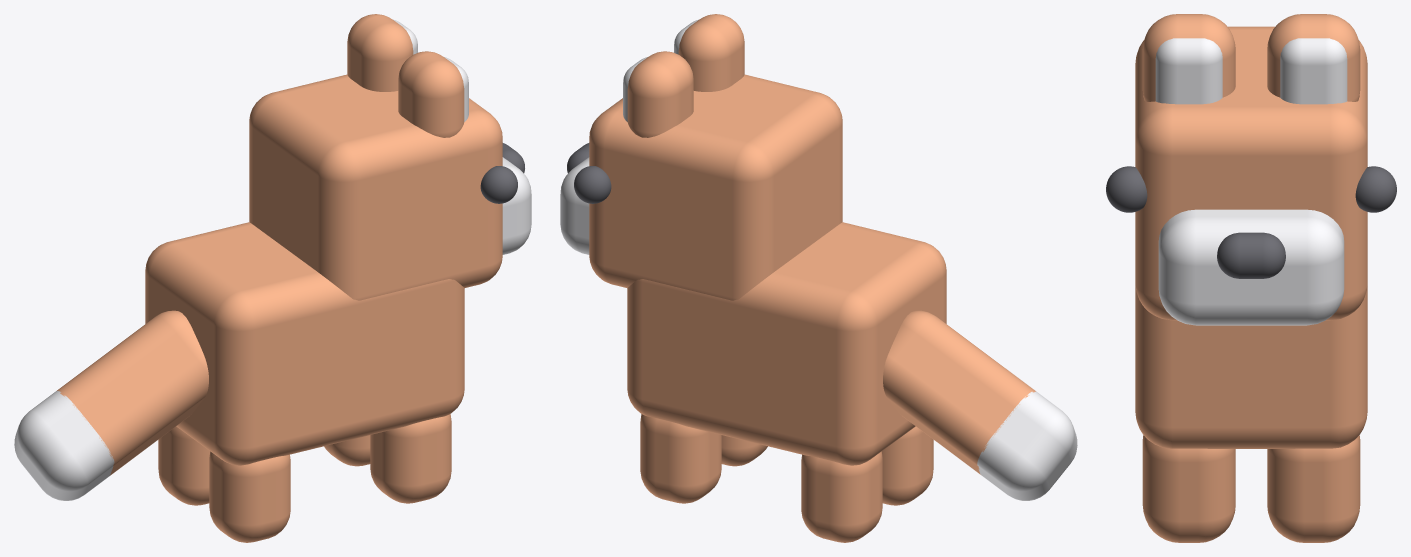
Rendered from fox.gltf.
3 renders of one model, left to right at view 1: azimuth 30°, elevation 25°; view 2: azimuth 150°, elevation 25°; view 3: azimuth 270°, elevation 25°, orthographic. The views are drawn at different scales.
Parts seen in each view (by area): view 1: Body, Head, Tail_Front, Tail_Fluff, Right_Back_Leg, Right_Front_Leg, Right_Ear_Outer, Left_Ear_Outer, Left_Back_Leg, Snout, Right_Eye, Left_Front_Leg; view 2: Body, Head, Tail_Front, Tail_Fluff, Left_Back_Leg, Left_Front_Leg, Left_Ear_Outer, Right_Ear_Outer, Right_Back_Leg, Snout, Left_Eye, Right_Front_Leg; view 3: Head, Body, Snout, Left_Front_Leg, Right_Front_Leg, Left_Ear_Inner, Right_Ear_Inner, Left_Ear_Outer, Right_Ear_Outer, Nose, Left_Eye, Right_Eye.
Boxes of the visible parts, x1,y1,x2,y2 form: Body: (145,222,464,465); Head: (249,74,502,300); Tail_Front: (57,310,208,475); Tail_Fluff: (14,391,114,500); Right_Back_Leg: (209,451,290,542); Right_Front_Leg: (370,414,451,503); Right_Ear_Outer: (398,51,464,137); Left_Ear_Outer: (347,14,413,91); Left_Back_Leg: (158,426,210,505); Snout: (502,157,531,254); Right_Eye: (480,166,517,203); Left_Front_Leg: (324,435,370,466); Body: (627,222,946,465); Head: (589,74,842,300); Tail_Front: (883,310,1035,474); Tail_Fluff: (977,391,1077,500); Left_Back_Leg: (801,451,882,542); Left_Front_Leg: (640,414,721,503); Left_Ear_Outer: (627,51,693,137); Right_Ear_Outer: (678,14,744,91); Right_Back_Leg: (881,426,933,505); Snout: (560,157,589,254); Left_Eye: (574,166,611,203); Right_Front_Leg: (721,435,767,466); Head: (1135,26,1367,320); Body: (1135,284,1367,448); Snout: (1158,209,1344,325); Left_Front_Leg: (1267,435,1360,542); Right_Front_Leg: (1142,435,1235,542); Left_Ear_Inner: (1280,38,1347,104); Right_Ear_Inner: (1155,38,1222,104); Left_Ear_Outer: (1267,14,1360,101); Right_Ear_Outer: (1142,14,1235,101); Nose: (1217,232,1285,278); Left_Eye: (1355,166,1396,212); Right_Eye: (1106,166,1147,212).
Bounding box in the file's own units: 1.51 × 1.26 × 0.6266.
